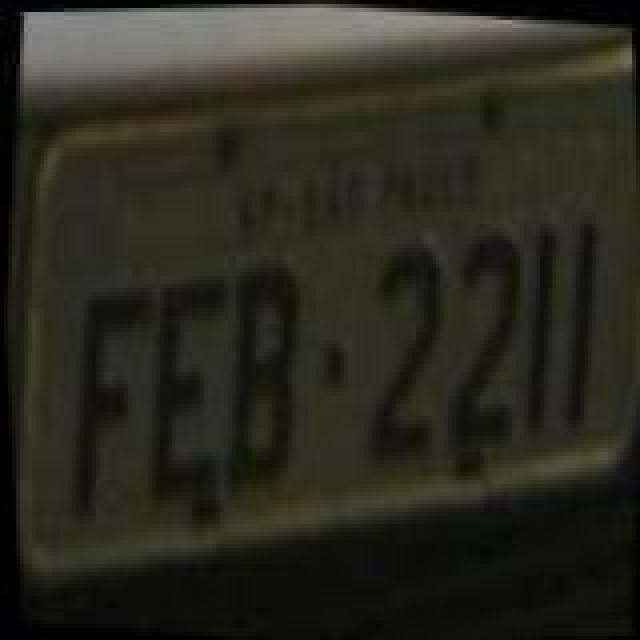1: (508, 216, 572, 432), (548, 216, 612, 432)
2: (350, 236, 454, 468), (432, 222, 528, 450)
B: (210, 254, 314, 490)
E: (128, 264, 236, 516)
F: (52, 276, 160, 532)
